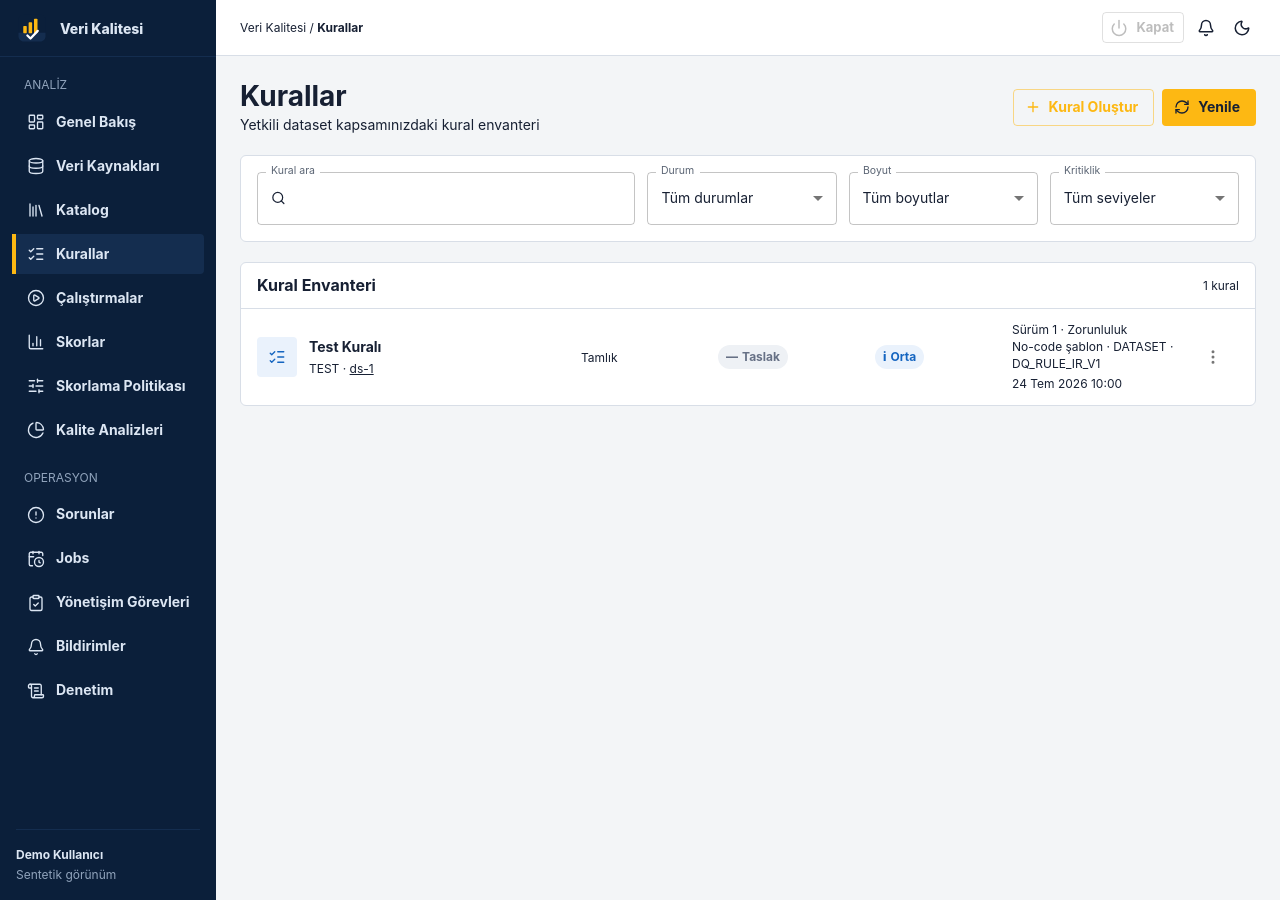
Test: Kural mutasyon dialog'ları › sürüm oluşturma dialogunu açar
Click the button with test id "rule-actions-trigger".
click(1213, 357)  # box [1199,343,1227,371]
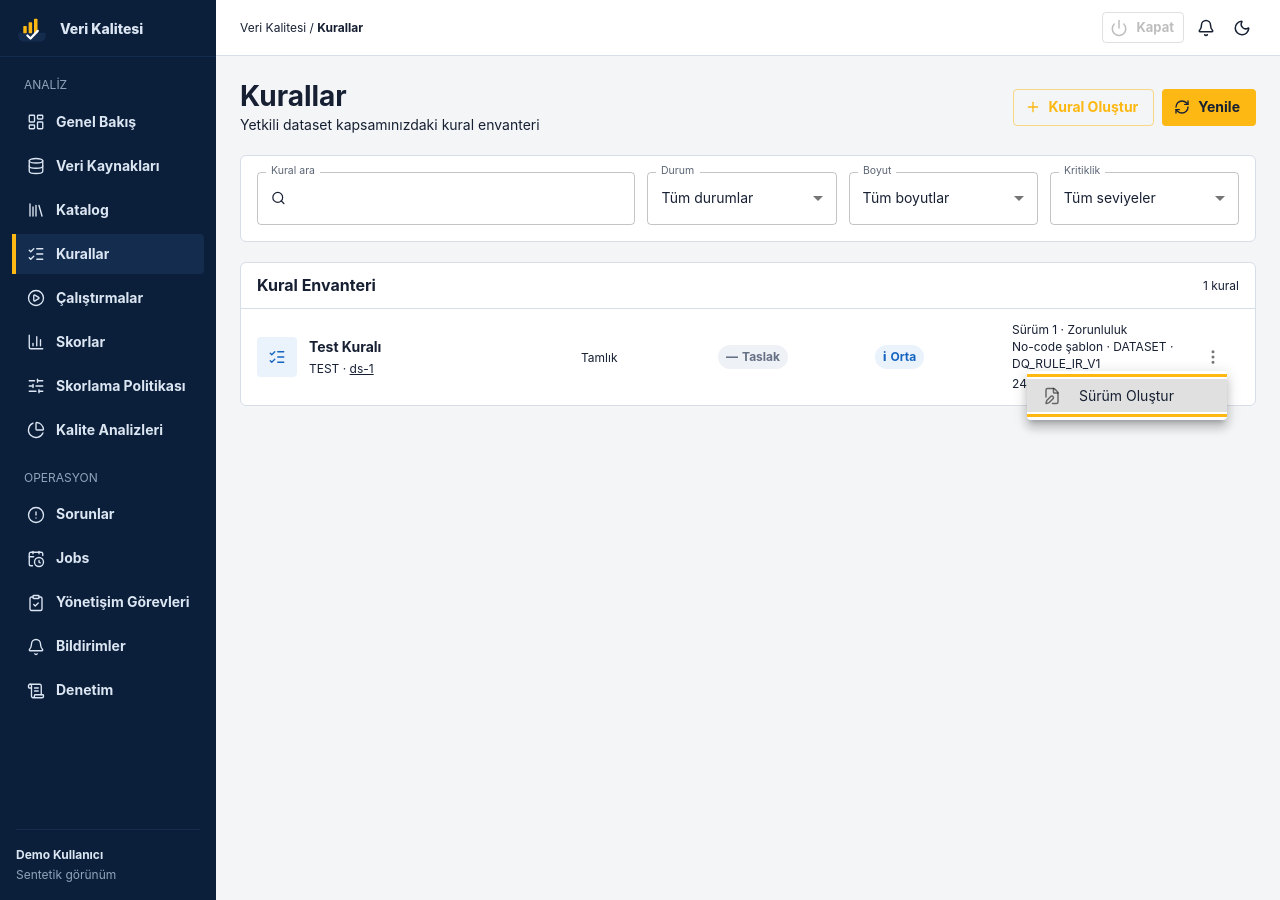
Click the menu item "Sürüm Oluştur".
click(1127, 396)  # box [1027,379,1227,412]
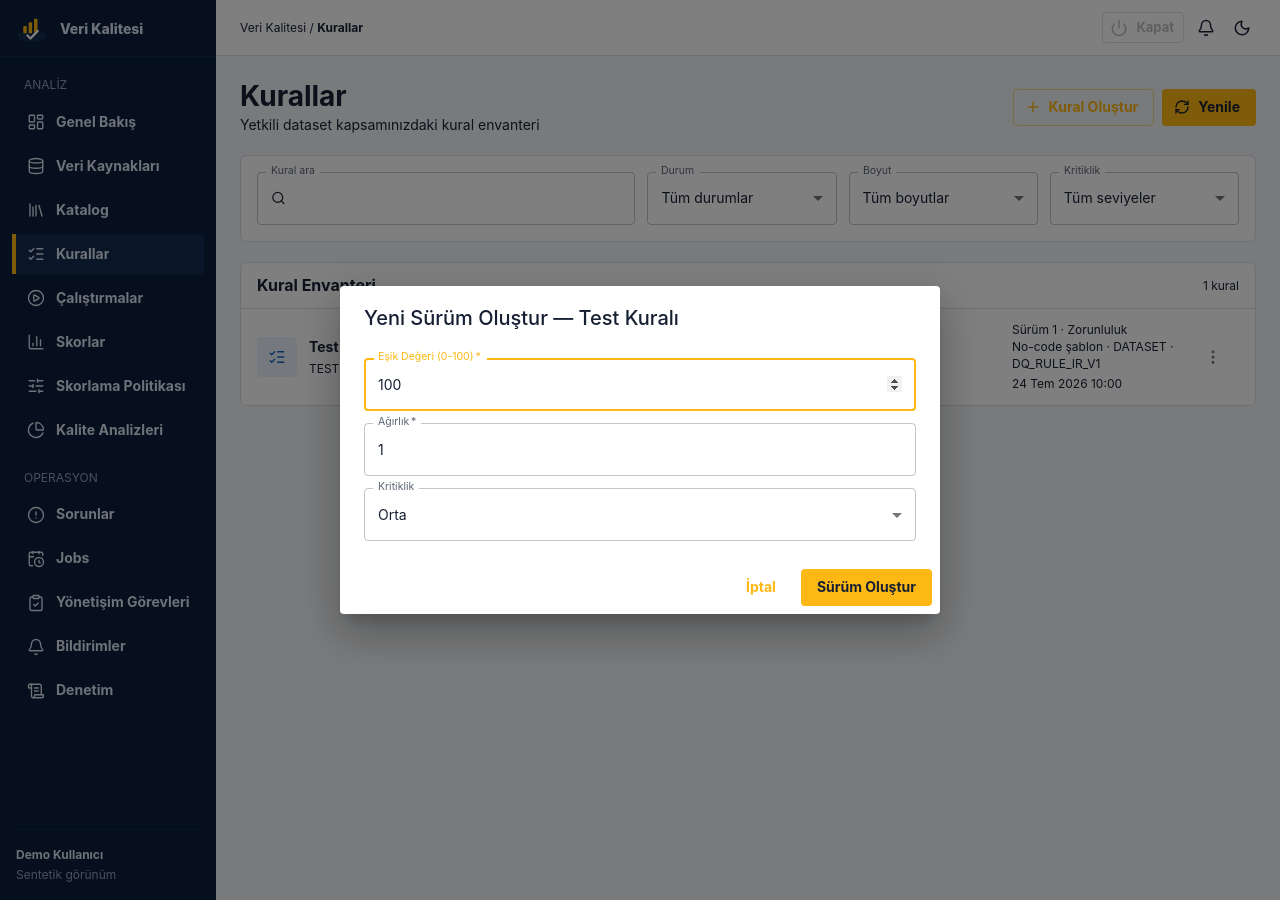
Result: the heading "Yeni Sürüm Oluştur — Test Kuralı" is shown at [364,306,679,330]
Result: the number field showing "100" is shown at [364,358,916,411]
Click the button "İptal".
click(761, 588)  # box [729,569,793,606]
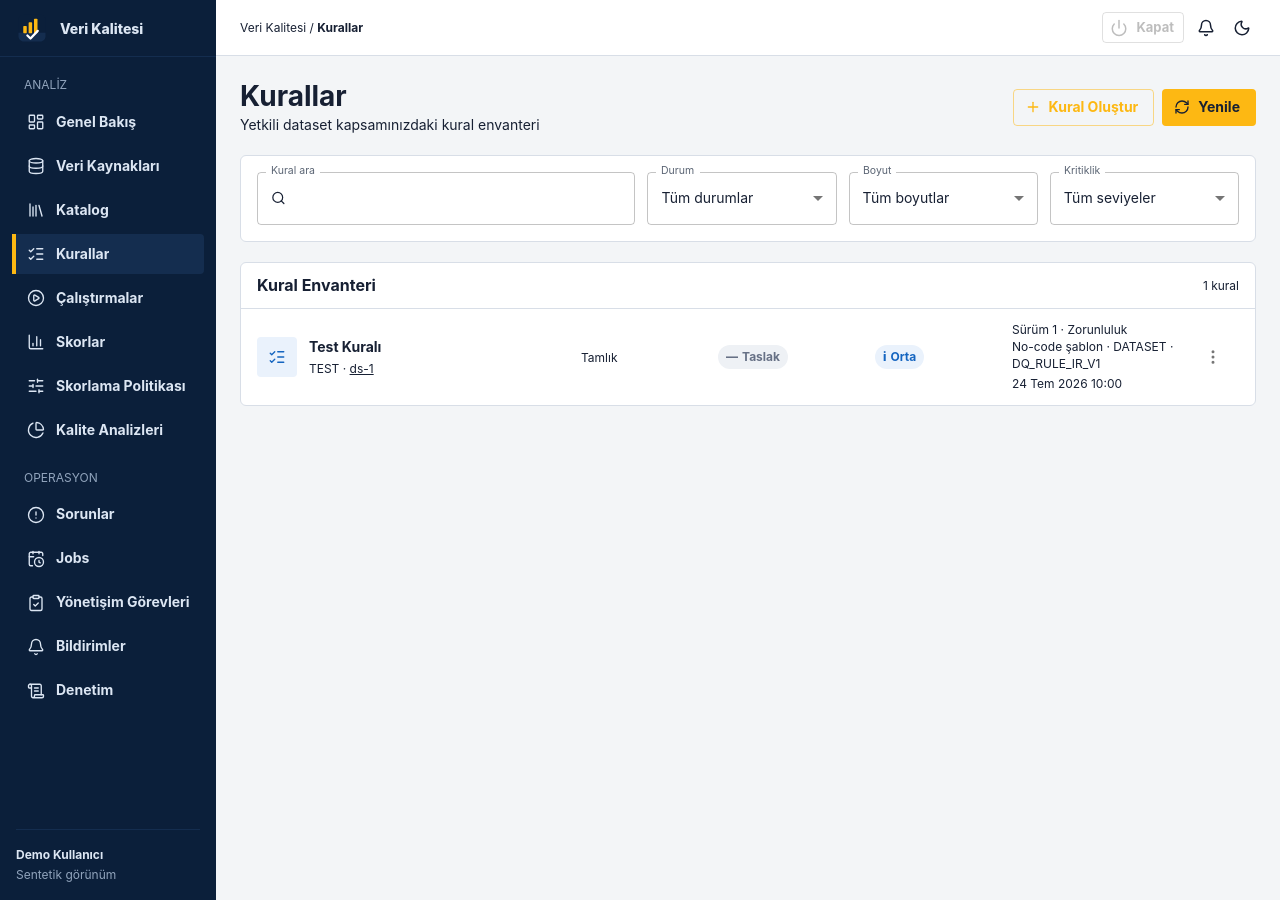
Result: the heading "Yeni Sürüm Oluştur — Test Kuralı" is gone
